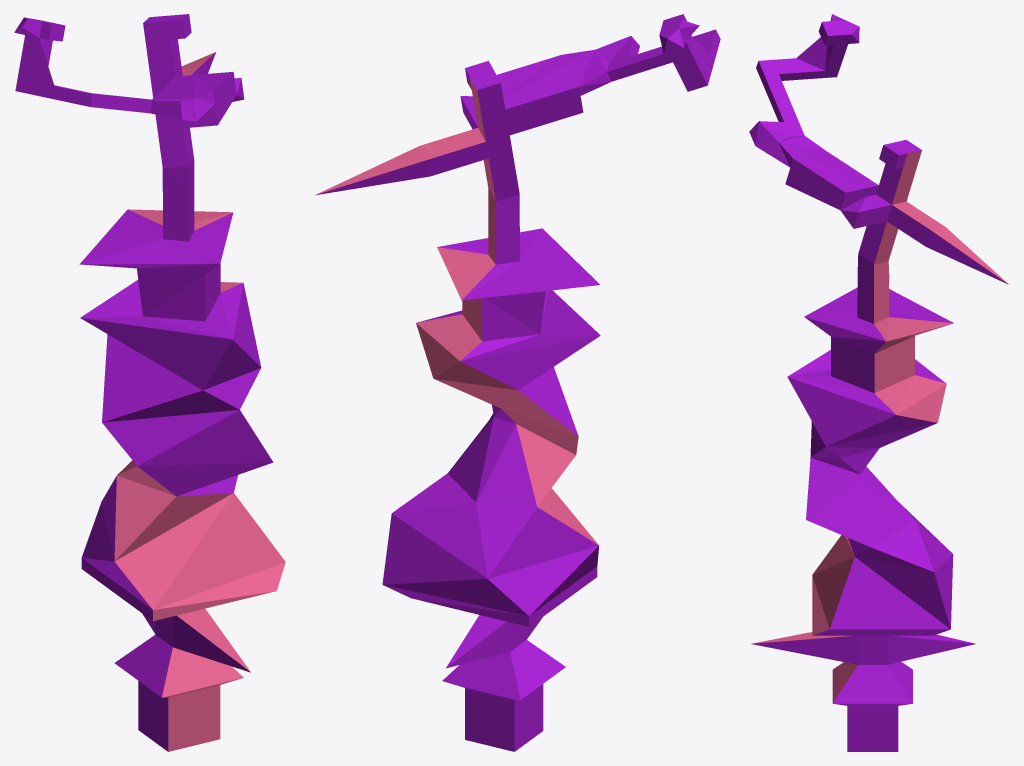
Rendered from tower 1 ex.dae.
The picture shows the model from 3 angles, left to right: view 1: azimuth 30°, elevation 25°; view 2: azimuth 150°, elevation 25°; view 3: azimuth 270°, elevation 25°; orthographic projection. The views are drawn at different scales.
Visible parts, largest first — view 1: Cube; view 2: Cube; view 3: Cube.
Boxes of the visible parts, x1,y1,x2,y2 form: Cube: (14, 14, 285, 751); Cube: (315, 14, 720, 751); Cube: (749, 14, 1008, 751).
Bounding box in the file's own units: 11.79 × 10.23 × 28.36.
